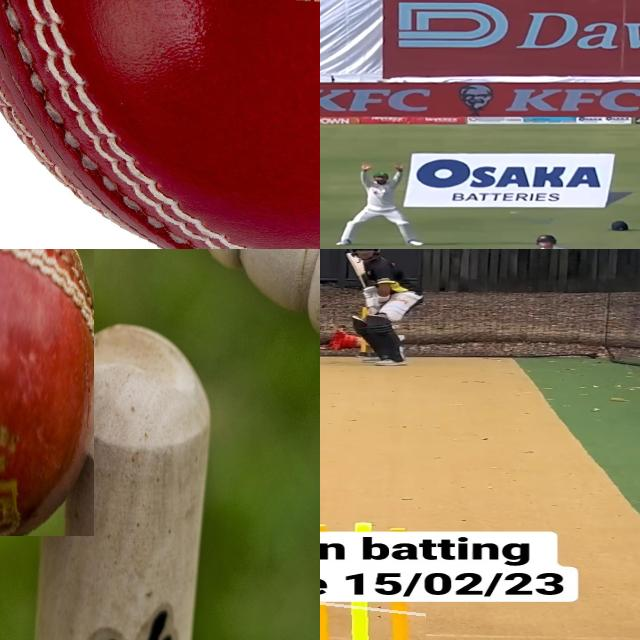Cricket ball: (0, 0, 320, 249), (0, 249, 94, 535)
Stumps: (320, 599, 425, 640)
